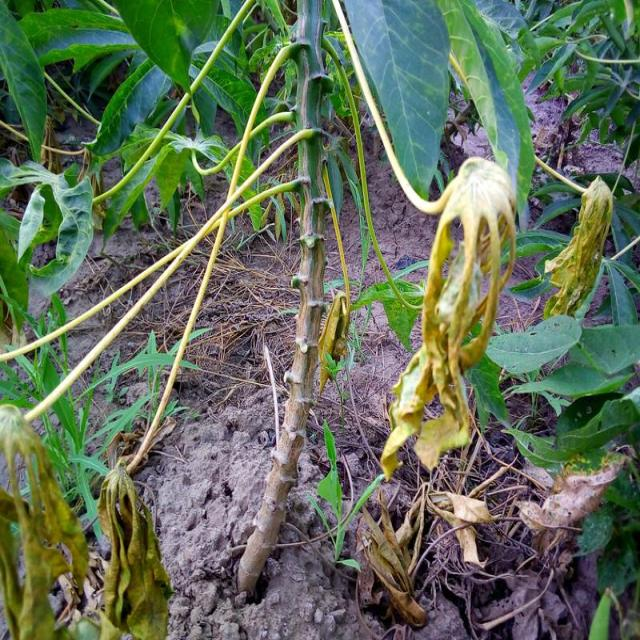cassava leaf: (435, 0, 535, 233), (343, 0, 451, 202)
